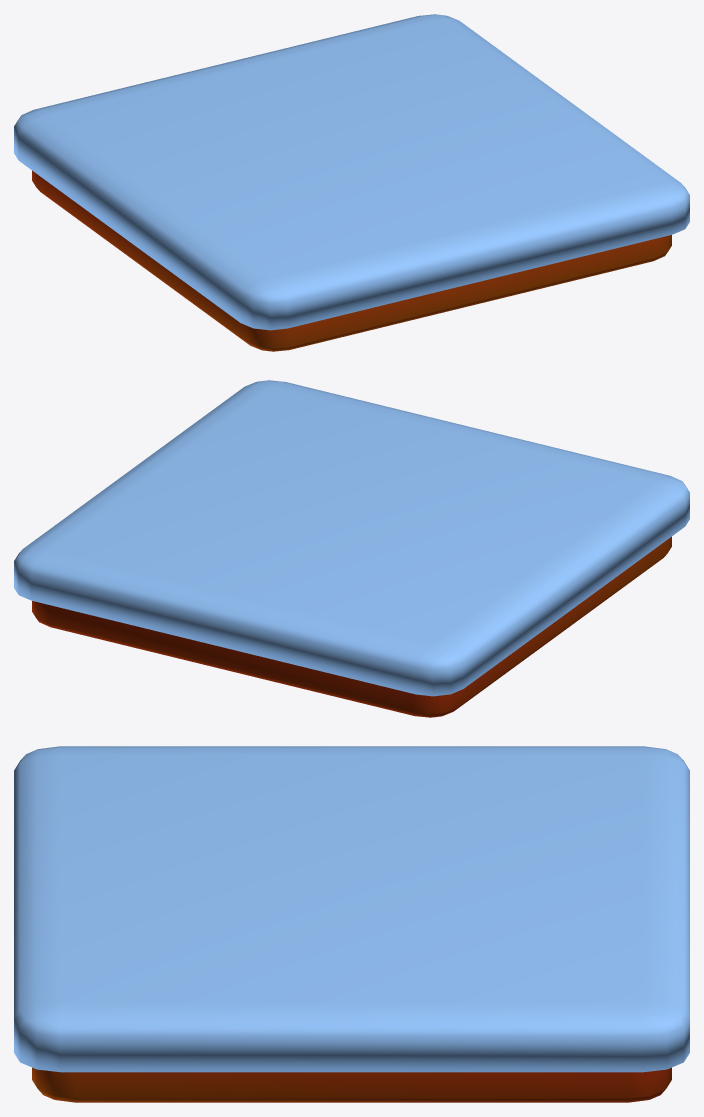
The model's file is trap_platfrombigblue.glb.
3 views of the same model, one above another, from view 1: azimuth 30°, elevation 25°; view 2: azimuth 150°, elevation 25°; view 3: azimuth 270°, elevation 25° (orthographic). The views are drawn at different scales.
Visible parts, largest first — view 1: Cube.033_visual; view 2: Cube.033_visual; view 3: Cube.033_visual.
Boxes of the visible parts, <box> form: Cube.033_visual: <box>14,14,689,351</box>; Cube.033_visual: <box>14,380,689,717</box>; Cube.033_visual: <box>14,746,689,1102</box>.
Size of what is drawn, in the model's own units: 3.98 by 0.634 by 3.98.
Materials: 1 (1 with a texture image).
